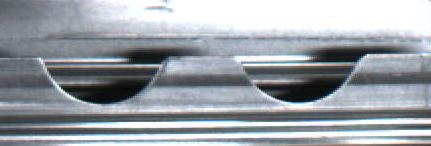twou: (39, 47, 360, 113)
